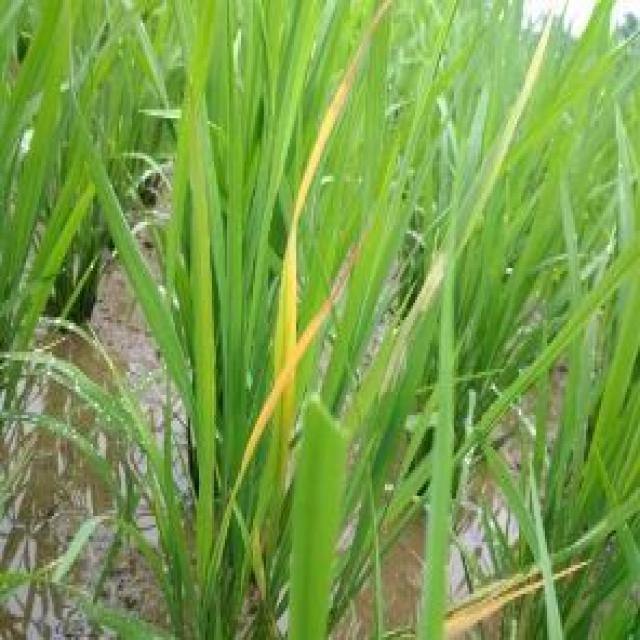Tungro: (273, 0, 402, 455), (235, 297, 336, 537), (447, 533, 593, 640)
